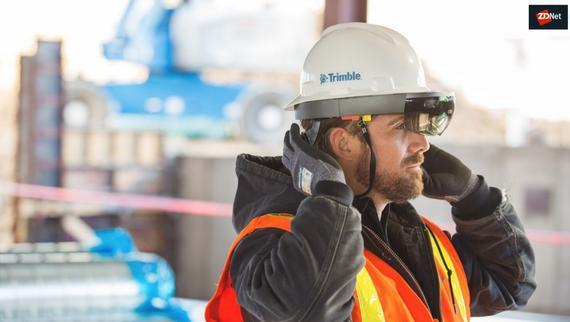helmet: (288, 21, 456, 111)
